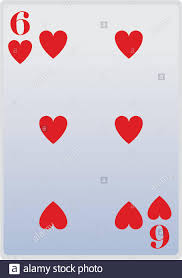six of hearts: (3, 5, 179, 257)
